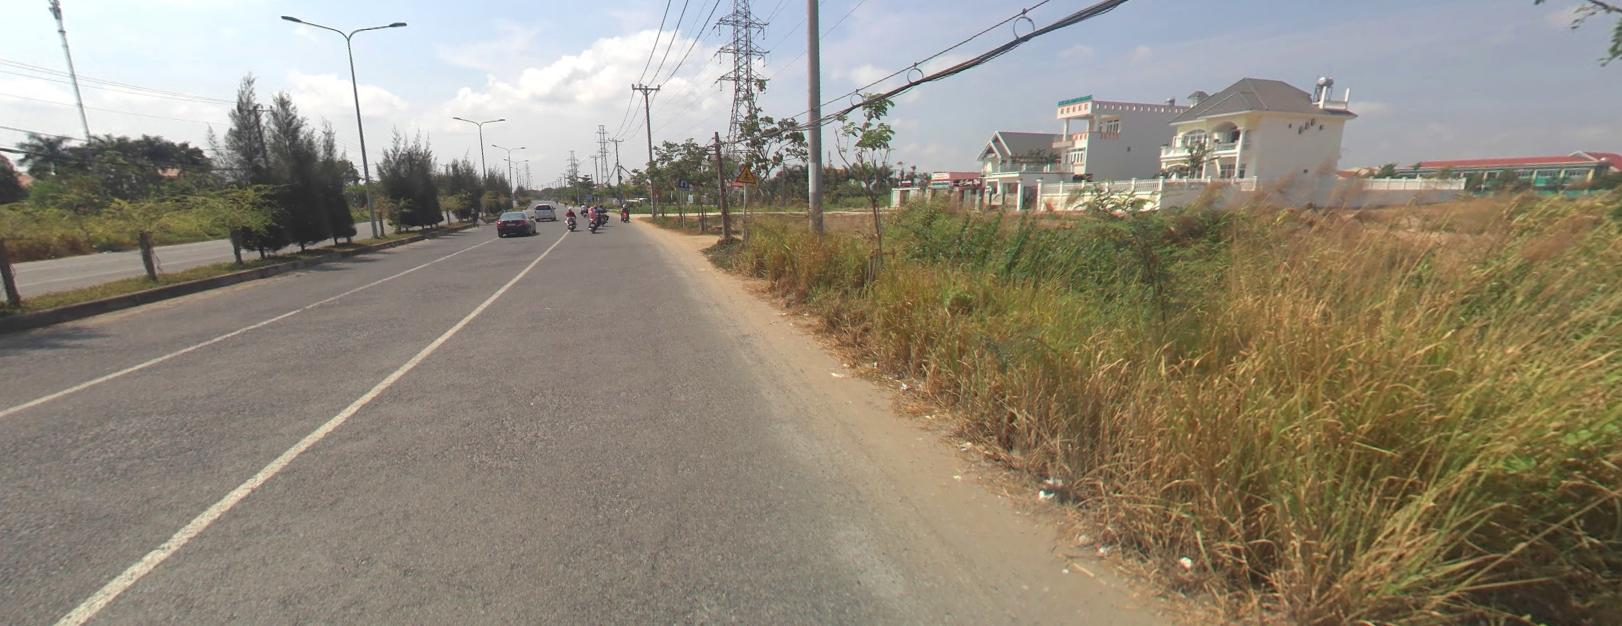Nguy hiem: (735, 163, 757, 182), (652, 186, 660, 193), (622, 189, 628, 194)
